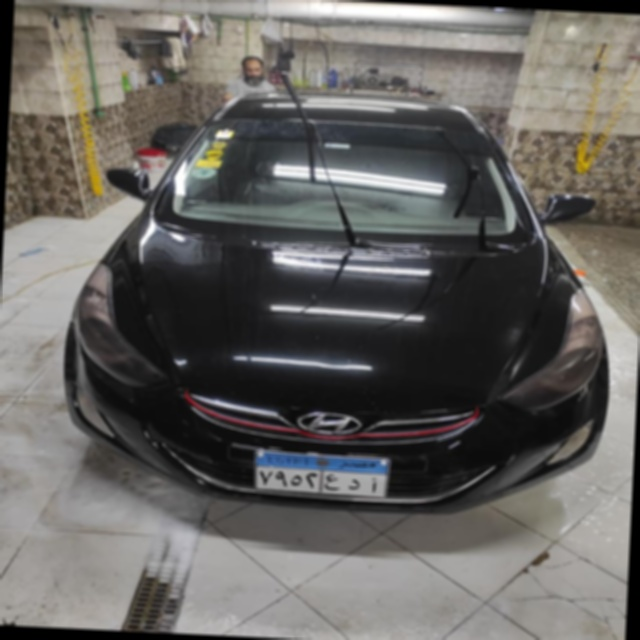License Plate: (252, 450, 390, 501)
